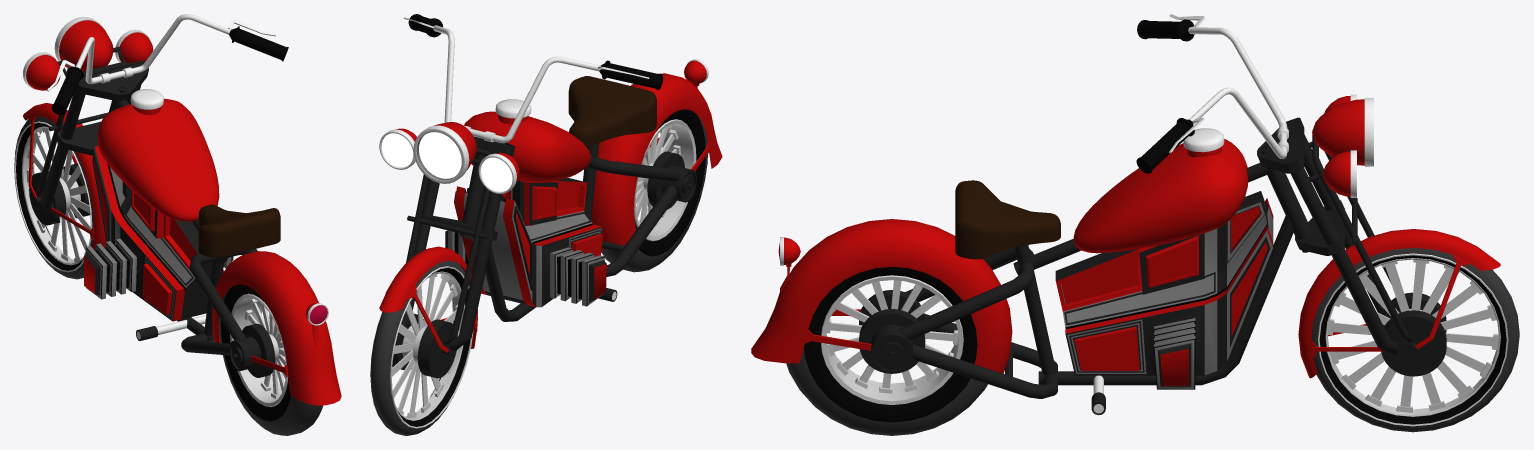
File: harledson_XYN.glb
3 views of the same model, side by side, from view 1: azimuth 30°, elevation 25°; view 2: azimuth 150°, elevation 25°; view 3: azimuth 270°, elevation 25° (orthographic). The views are drawn at different scales.
Visible parts, largest first — view 1: body, front_part, rear_wheel, front_wheel; view 2: body, front_part, front_wheel, rear_wheel; view 3: body, front_part, front_wheel, rear_wheel.
Part boxes in pixels (x1=…): body: x1=84, y1=89, x2=341, y2=405; front_part: x1=23, y1=14, x2=288, y2=250; rear_wheel: x1=218, y1=284, x2=323, y2=435; front_wheel: x1=14, y1=116, x2=93, y2=279; body: x1=445, y1=59, x2=722, y2=321; front_part: x1=379, y1=14, x2=663, y2=378; front_wheel: x1=370, y1=260, x2=473, y2=435; rear_wheel: x1=601, y1=109, x2=707, y2=272; body: x1=751, y1=128, x2=1311, y2=415; front_part: x1=1136, y1=14, x2=1500, y2=378; front_wheel: x1=1311, y1=248, x2=1519, y2=432; rear_wheel: x1=786, y1=266, x2=987, y2=435.
Bounding box in the file's own units: 1.15 × 1.41 × 2.63.
